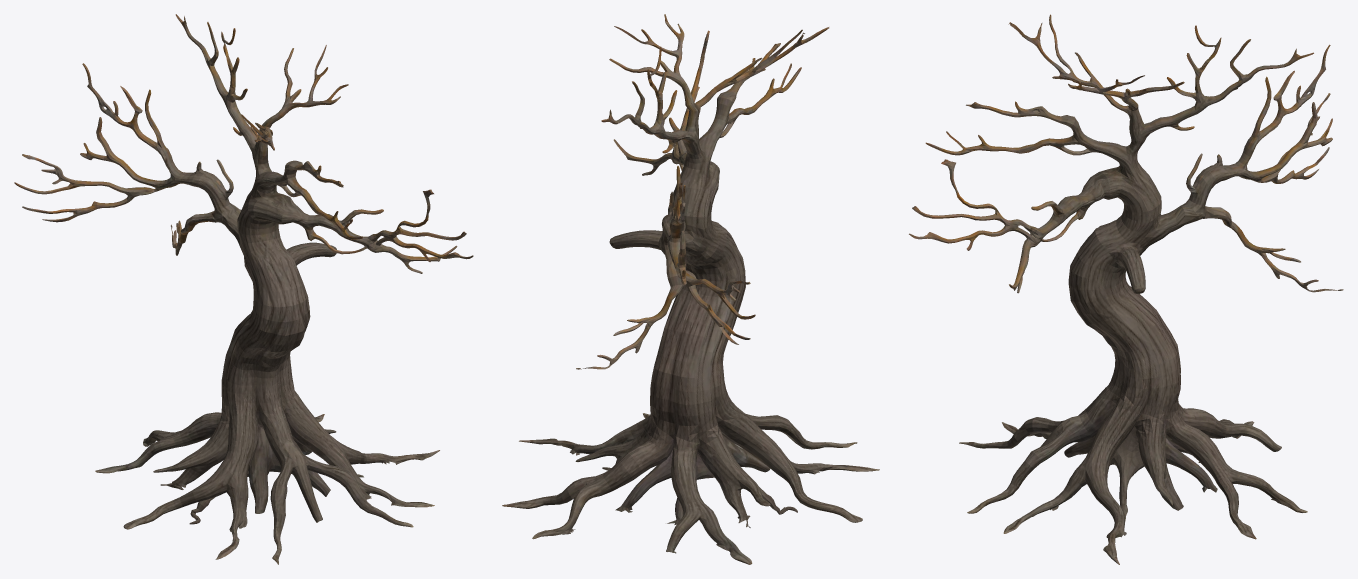
File: SakuraTree.glb
3 renders of one model, left to right at view 1: azimuth 30°, elevation 25°; view 2: azimuth 150°, elevation 25°; view 3: azimuth 270°, elevation 25°, orthographic. The views are drawn at different scales.
Parts seen in each view (by area): view 1: Tree; view 2: Tree; view 3: Tree.
Part boxes in pixels (left/top/right/bottom): Tree: left=14, top=14, right=473, bottom=564; Tree: left=502, top=14, right=879, bottom=564; Tree: left=909, top=14, right=1343, bottom=564.
Size of the model in its own units: 1.68 by 2.2 by 1.88.
1 material, 1 textured.
